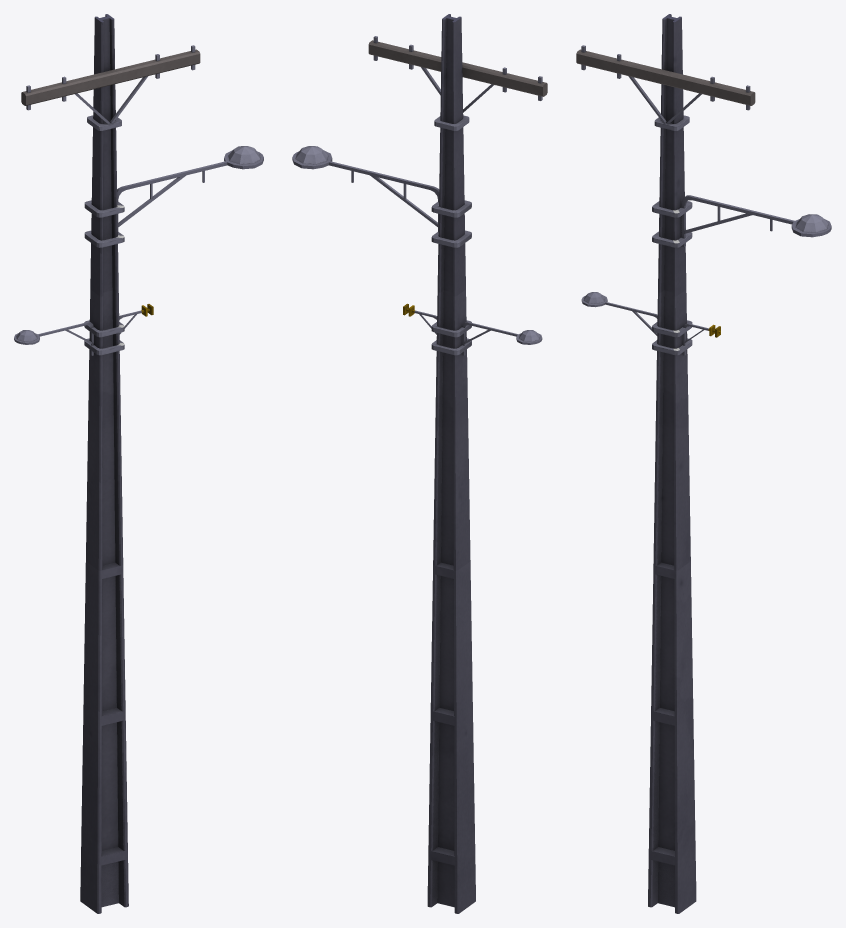
File: Poste.fbx
3 views of the same model, side by side, from view 1: azimuth 30°, elevation 25°; view 2: azimuth 150°, elevation 25°; view 3: azimuth 330°, elevation 25° (orthographic).
Visible parts, largest first — view 1: Poste; view 2: Poste; view 3: Poste.
Part boxes in pixels (x1,y1,x2,y2): Poste: (14,14,263,913); Poste: (292,14,547,913); Poste: (576,14,831,913).
Bounding box in the file's own units: 217 × 750 × 32.6.
